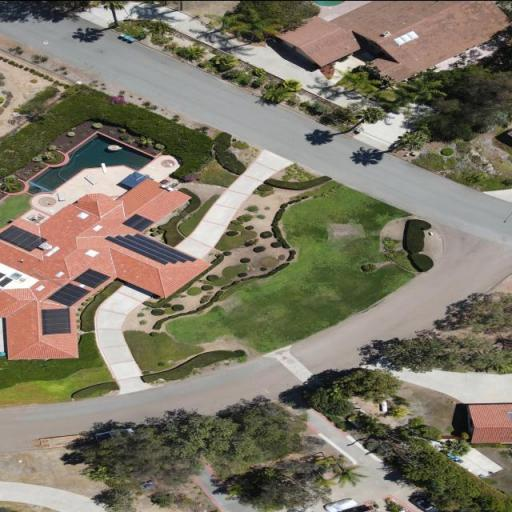solar-panel: (105, 232, 197, 264), (0, 224, 48, 251), (47, 282, 92, 306), (41, 308, 71, 334), (73, 268, 111, 288), (122, 213, 155, 231), (0, 276, 13, 286), (0, 271, 6, 278)
